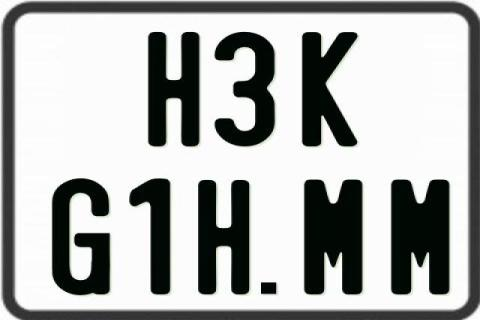0: (215, 31, 281, 151), (129, 176, 170, 297)
G: (51, 178, 115, 298)
H: (197, 178, 251, 298), (146, 32, 200, 150)
K: (301, 29, 362, 145)
M: (389, 179, 450, 295), (304, 178, 362, 294)
